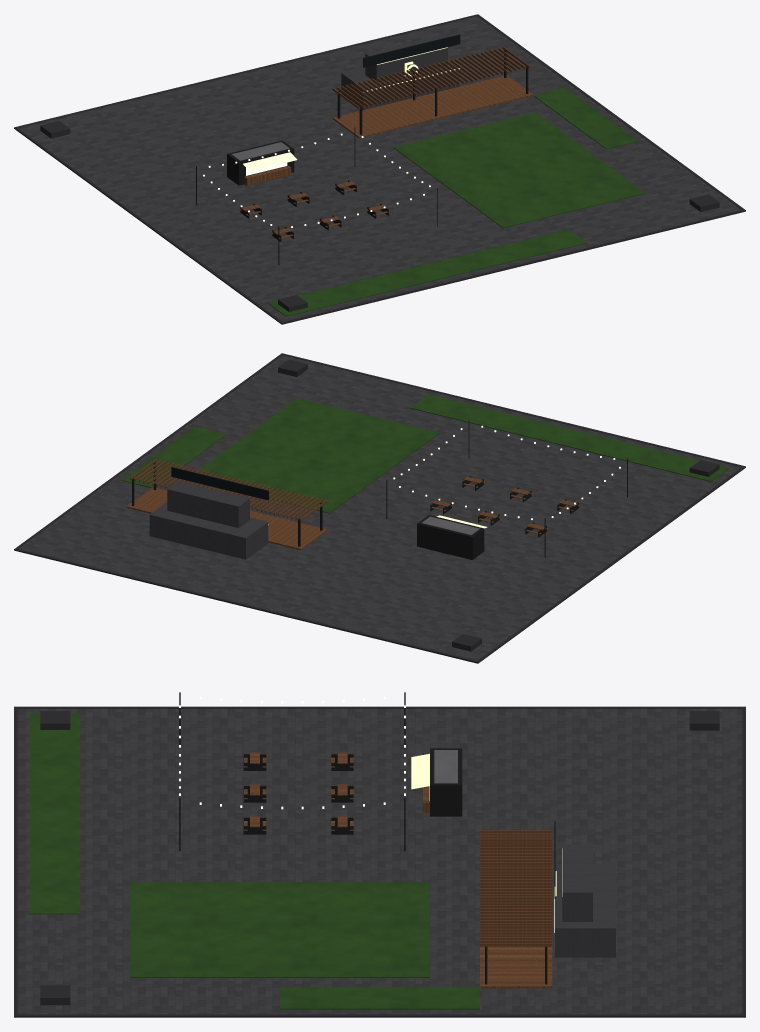
The model's file is fans_L2.glb.
3 views of the same model, one above another, from view 1: azimuth 30°, elevation 25°; view 2: azimuth 150°, elevation 25°; view 3: azimuth 270°, elevation 25° (orthographic). The views are drawn at different scales.
Visible parts, largest first — view 1: paving_fans_L2, lawn_fans_L2, wood_fans_L2, concrete_dark_fans_L2, cladding_fans_L2, black_metal_fans_L2, glass_fans_L2, emissive_led_fans_L2; view 2: paving_fans_L2, lawn_fans_L2, cladding_fans_L2, concrete_dark_fans_L2, wood_fans_L2, black_metal_fans_L2, glass_fans_L2; view 3: paving_fans_L2, lawn_fans_L2, wood_fans_L2, concrete_dark_fans_L2, cladding_fans_L2, black_metal_fans_L2, roofing_fans_L2, emissive_led_fans_L2.
Boxes of the visible parts, left/top/right/bottom form: paving_fans_L2: left=18, top=16, right=741, bottom=321; lawn_fans_L2: left=268, top=87, right=645, bottom=316; wood_fans_L2: left=239, top=46, right=533, bottom=238; concrete_dark_fans_L2: left=14, top=14, right=745, bottom=324; cladding_fans_L2: left=341, top=36, right=459, bottom=109; black_metal_fans_L2: left=196, top=34, right=528, bottom=265; glass_fans_L2: left=363, top=35, right=460, bottom=67; emissive_led_fans_L2: left=243, top=47, right=459, bottom=171; paving_fans_L2: left=18, top=355, right=741, bottom=660; lawn_fans_L2: left=121, top=394, right=729, bottom=513; cladding_fans_L2: left=149, top=481, right=268, bottom=559; concrete_dark_fans_L2: left=14, top=353, right=745, bottom=663; wood_fans_L2: left=127, top=458, right=579, bottom=550; black_metal_fans_L2: left=132, top=420, right=627, bottom=559; glass_fans_L2: left=171, top=468, right=268, bottom=500; paving_fans_L2: left=17, top=708, right=742, bottom=1014; lawn_fans_L2: left=30, top=713, right=479, bottom=1009; wood_fans_L2: left=244, top=752, right=552, bottom=988; concrete_dark_fans_L2: left=14, top=706, right=745, bottom=1017; cladding_fans_L2: left=555, top=845, right=615, bottom=957; black_metal_fans_L2: left=179, top=692, right=555, bottom=984; roofing_fans_L2: left=434, top=750, right=457, bottom=783; emissive_led_fans_L2: left=411, top=753, right=562, bottom=932.
Bounding box in the file's own units: 58.6 × 6.48 × 58.6.
Materials: 10 (5 with a texture image).
